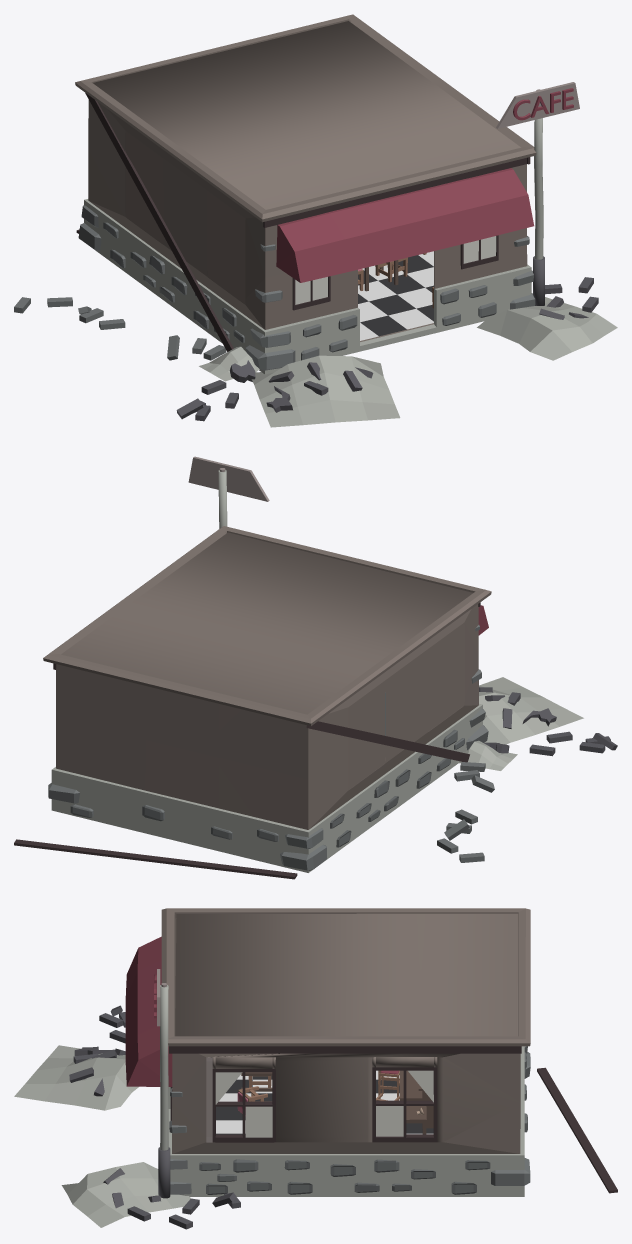
File: Cafe.fbx
3 views of the same model, one above another, from view 1: azimuth 30°, elevation 25°; view 2: azimuth 150°, elevation 25°; view 3: azimuth 270°, elevation 25° (orthographic). The views are drawn at different scales.
Parts seen in each view (by area): view 1: CafeBase, CafeSign, Floor, Window01, WindowFrames01; view 2: CafeBase, CafeSign; view 3: CafeBase, WindowFrames03, WindowFrames02, CafeSign, Window02, Window03, Floor, CafeDesk.
Boxes of the visible parts, x1,y1,x2,y2 form: CafeBase: (14, 14, 617, 427); CafeSign: (496, 82, 579, 305); Floor: (358, 251, 433, 340); Window01: (295, 236, 496, 304); WindowFrames01: (292, 235, 498, 310); CafeBase: (14, 526, 617, 879); CafeSign: (188, 456, 269, 528); CafeBase: (14, 908, 617, 1229); WindowFrames03: (372, 1057, 437, 1142); WindowFrames02: (212, 1057, 275, 1142); CafeSign: (154, 969, 170, 1198); Window02: (215, 1072, 272, 1137); Window03: (376, 1070, 433, 1136); Floor: (216, 1070, 433, 1134); CafeDesk: (400, 1070, 433, 1128).
Bounding box in the file's own units: 1067 × 499 × 1220.
